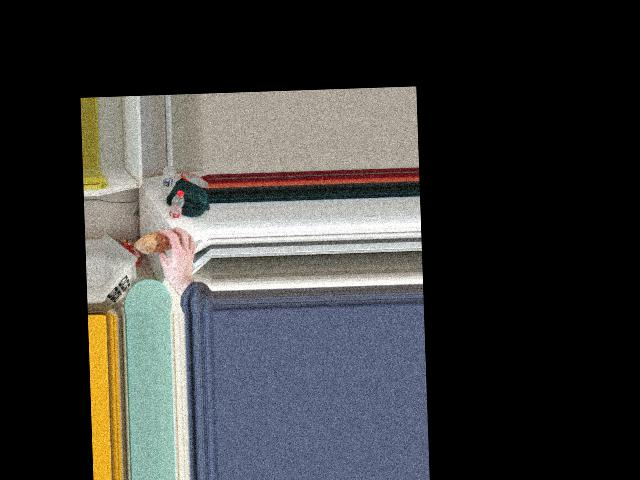sweet_potato: (143, 233, 176, 249)
